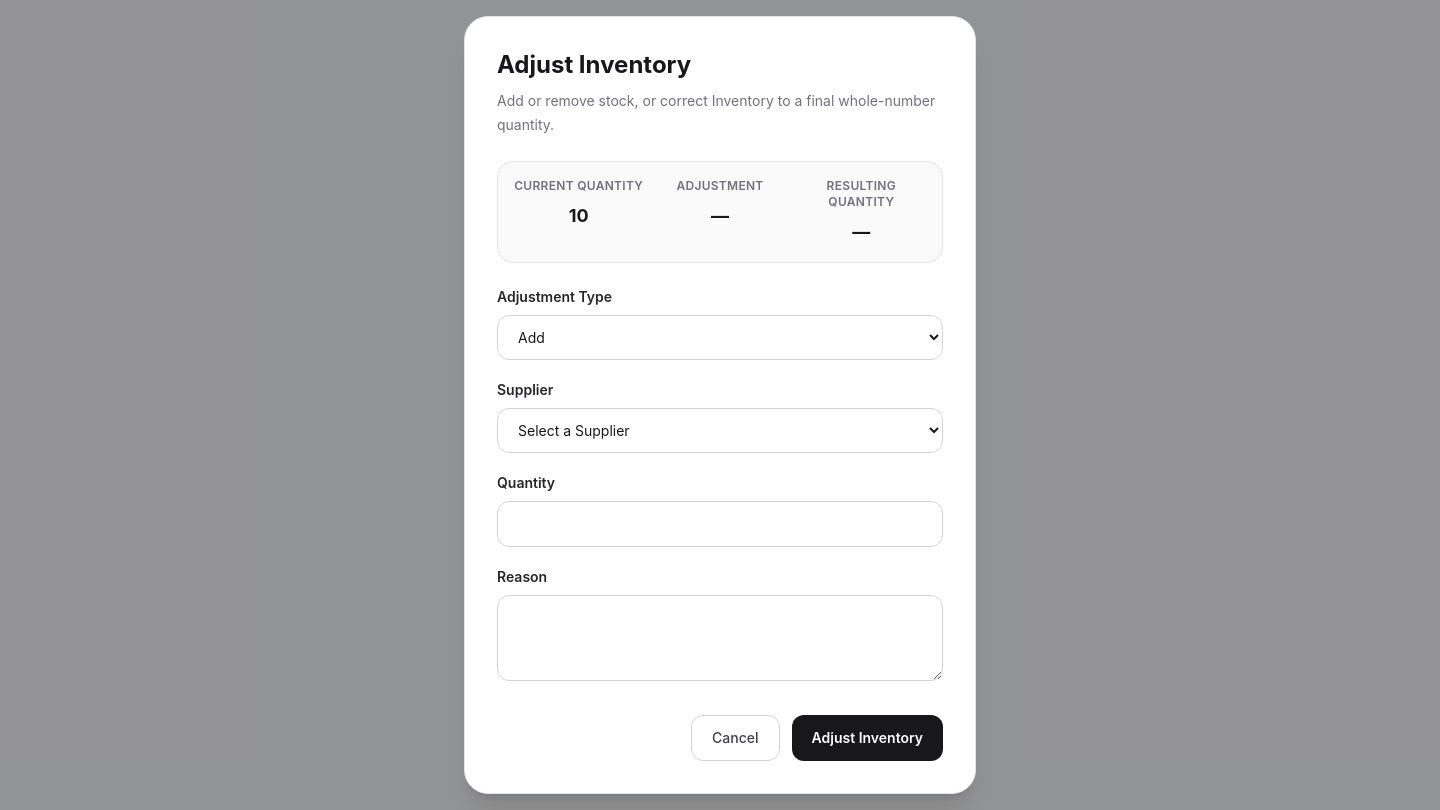
InventoryAdjustmentDialog › calculates Remove and blocks a negative resulting quantity
Select "Remove" in the dropdown labelled "Adjustment Type". click: (720, 338)
box: [497,315,943,360]
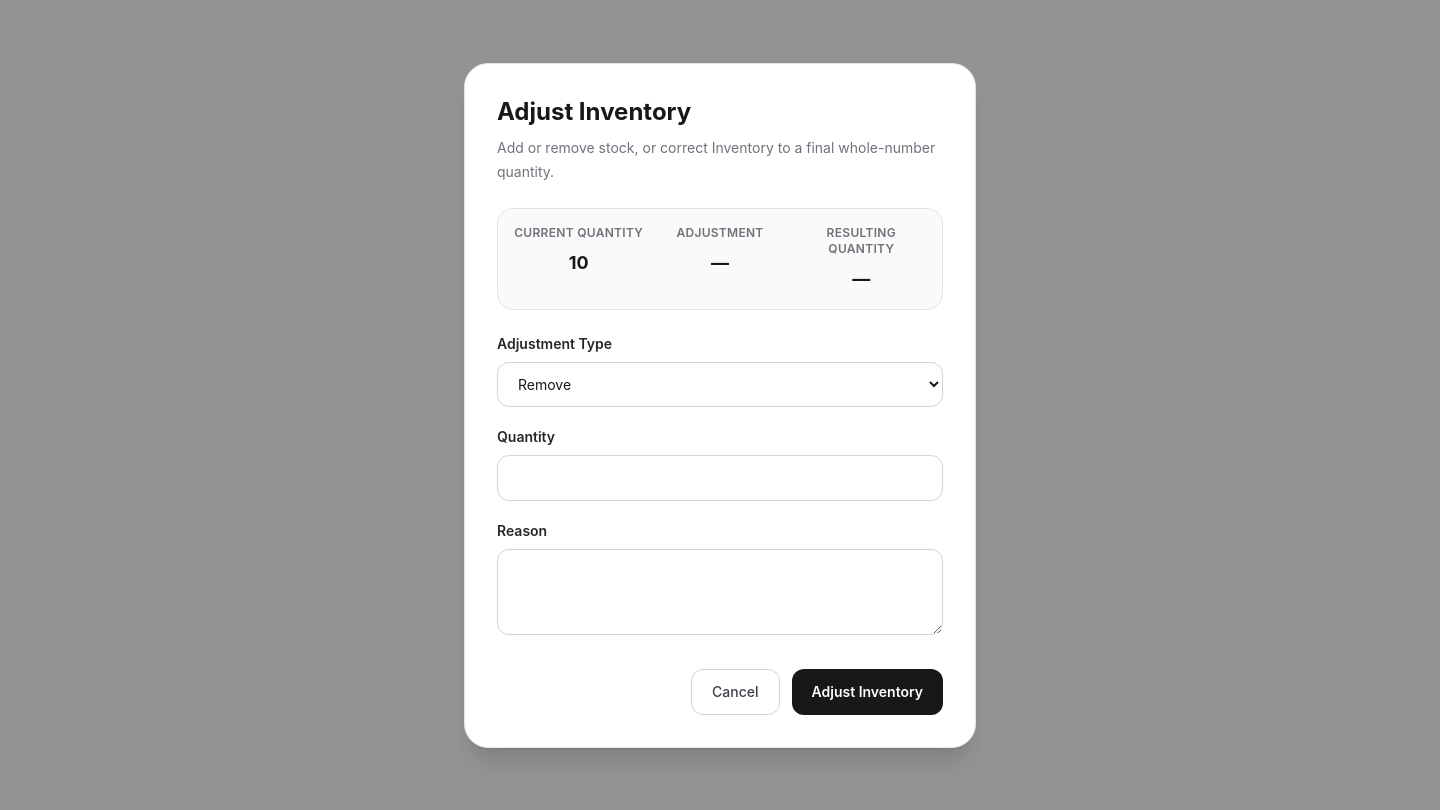
Type "11" into the number field labelled "Quantity". click: (720, 478)
box: [497,454,943,500]
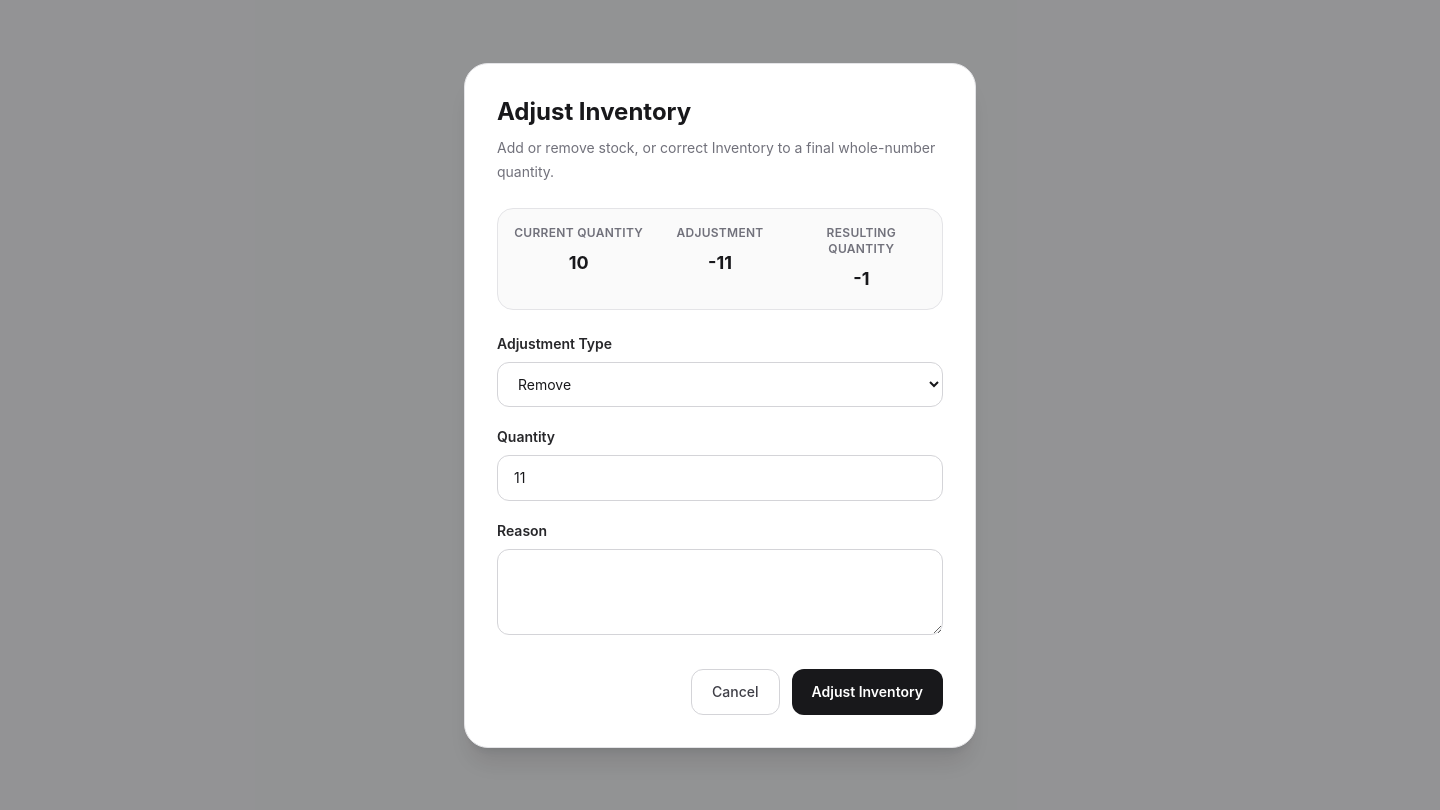
Type "Removal" into the text box labelled "Reason". click: (720, 592)
box: [497,548,943,634]
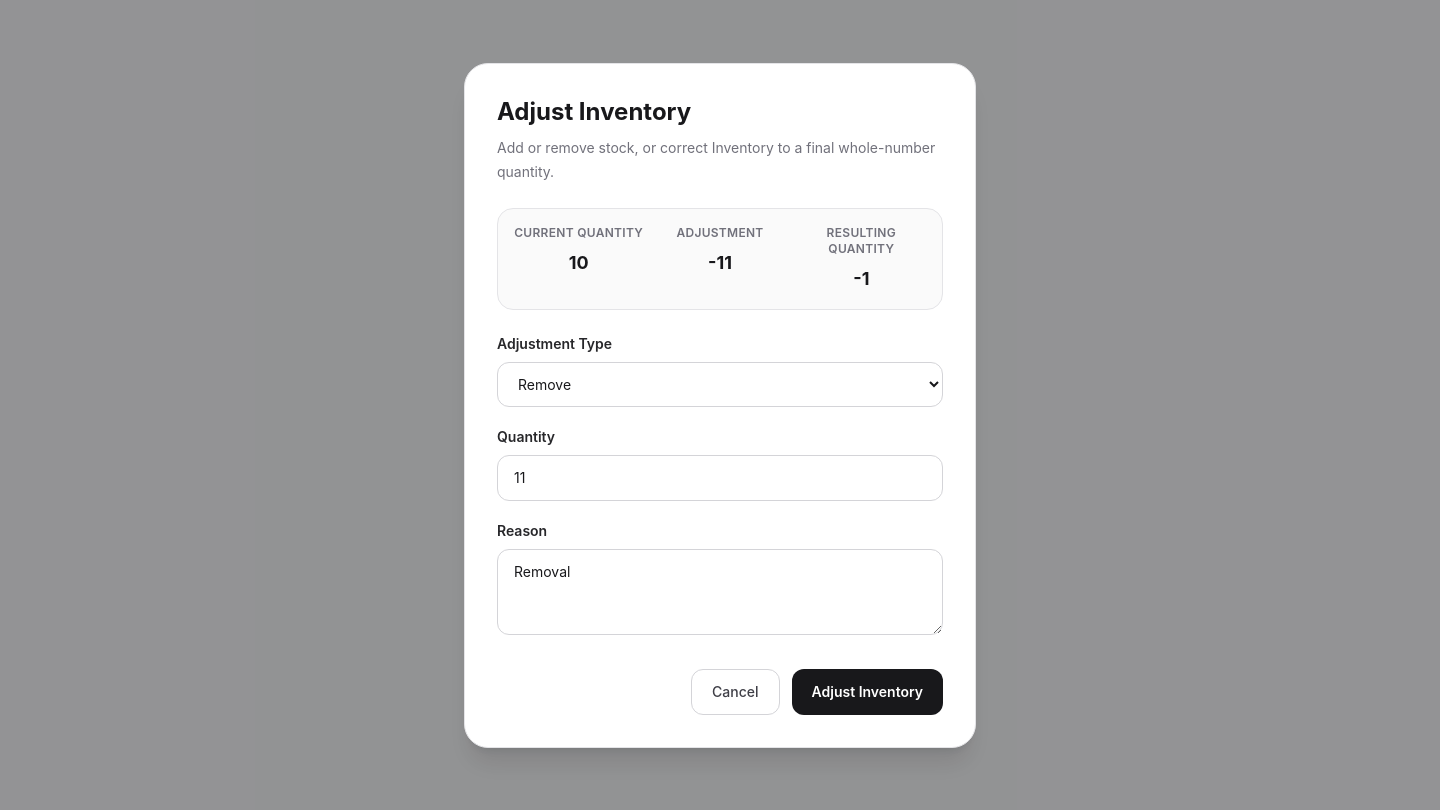
Expected: the text "-11" is shown, [708,252,732,272]
Expected: the text "-1" is shown, [853,268,869,288]
Click the button "Adjust Inventory". click: (867, 692)
box: [792,668,943,714]
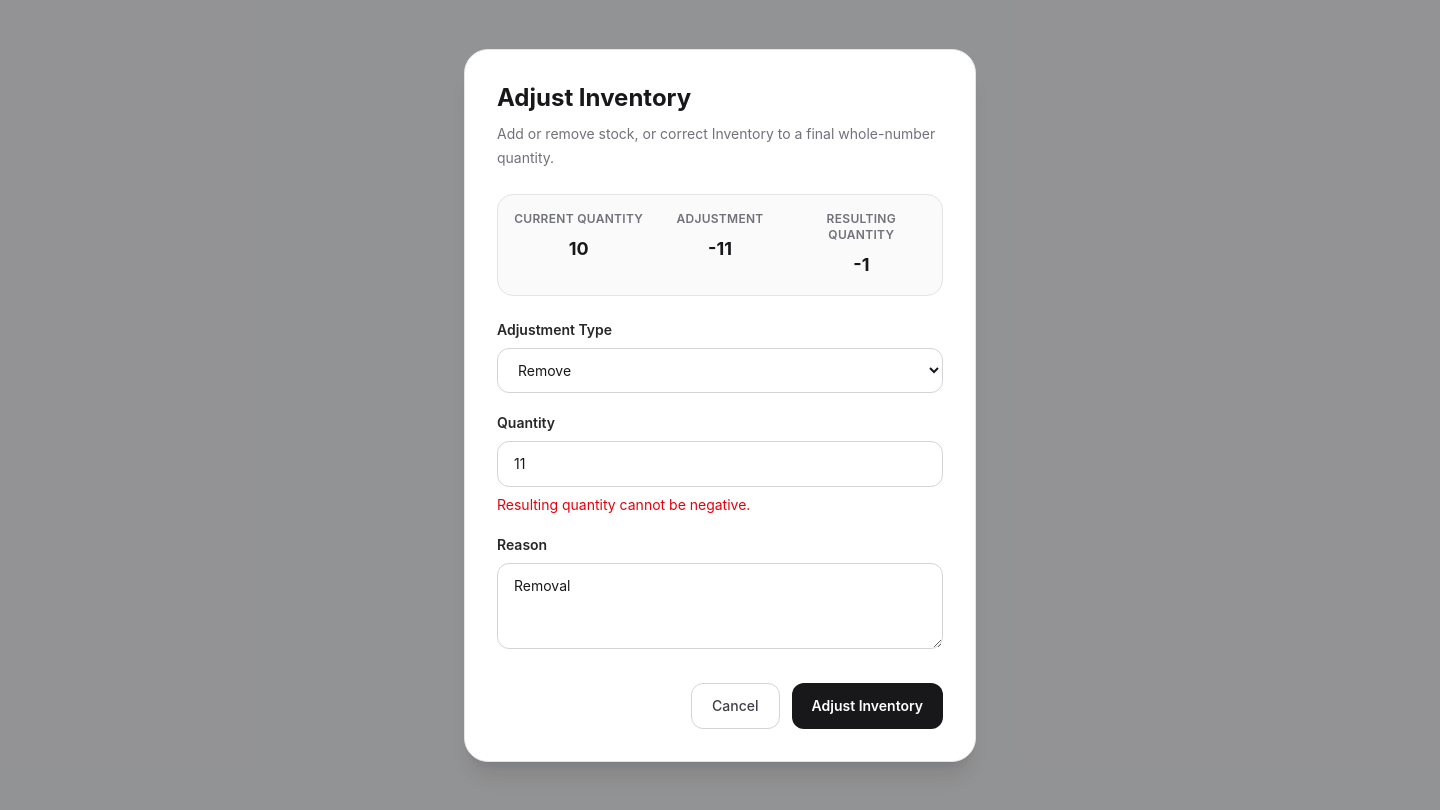
Expected: the text "Resulting quantity cannot be negative." is shown, [497,496,750,512]
